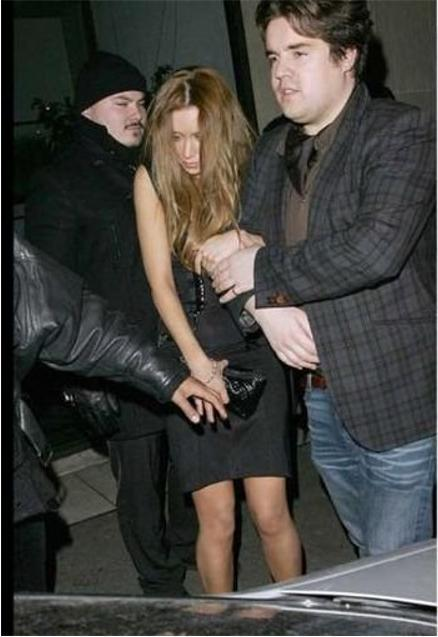Drunk: (261, 16, 343, 122), (165, 105, 210, 176), (103, 93, 147, 143)
